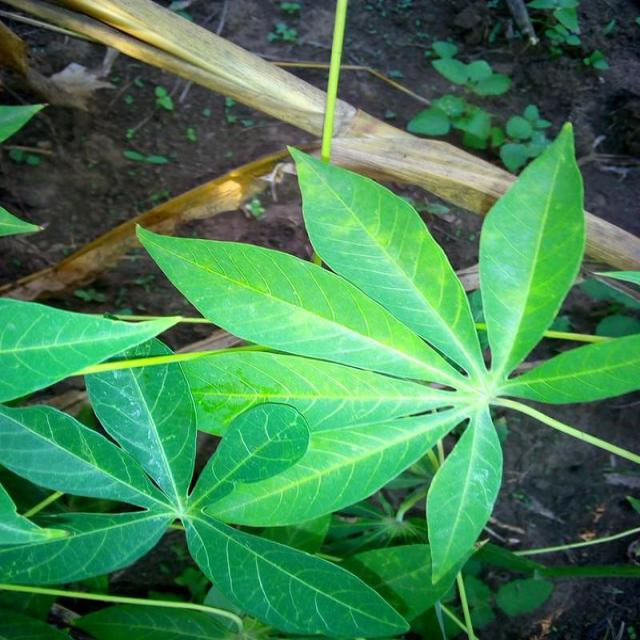cassava leaf: (0, 117, 638, 637), (285, 143, 486, 385), (477, 119, 586, 382)
